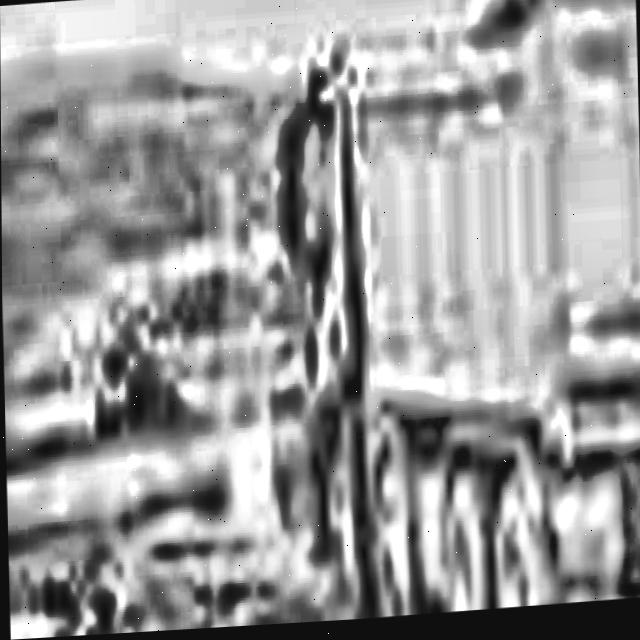dump_truck: (271, 0, 640, 627)
